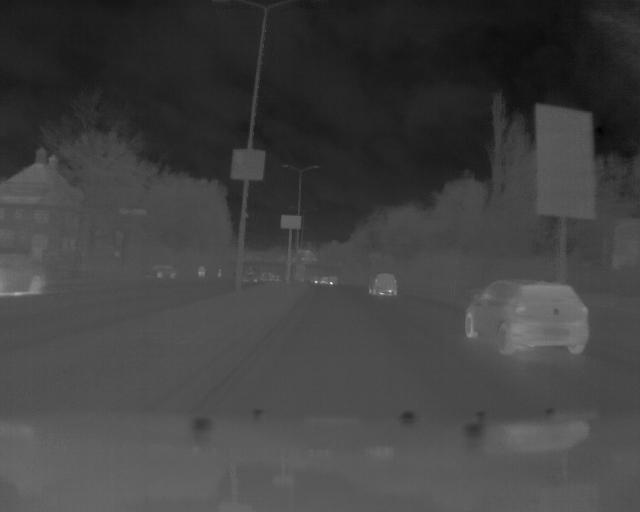car: (462, 276, 595, 358), (366, 271, 400, 299), (141, 262, 180, 282)
